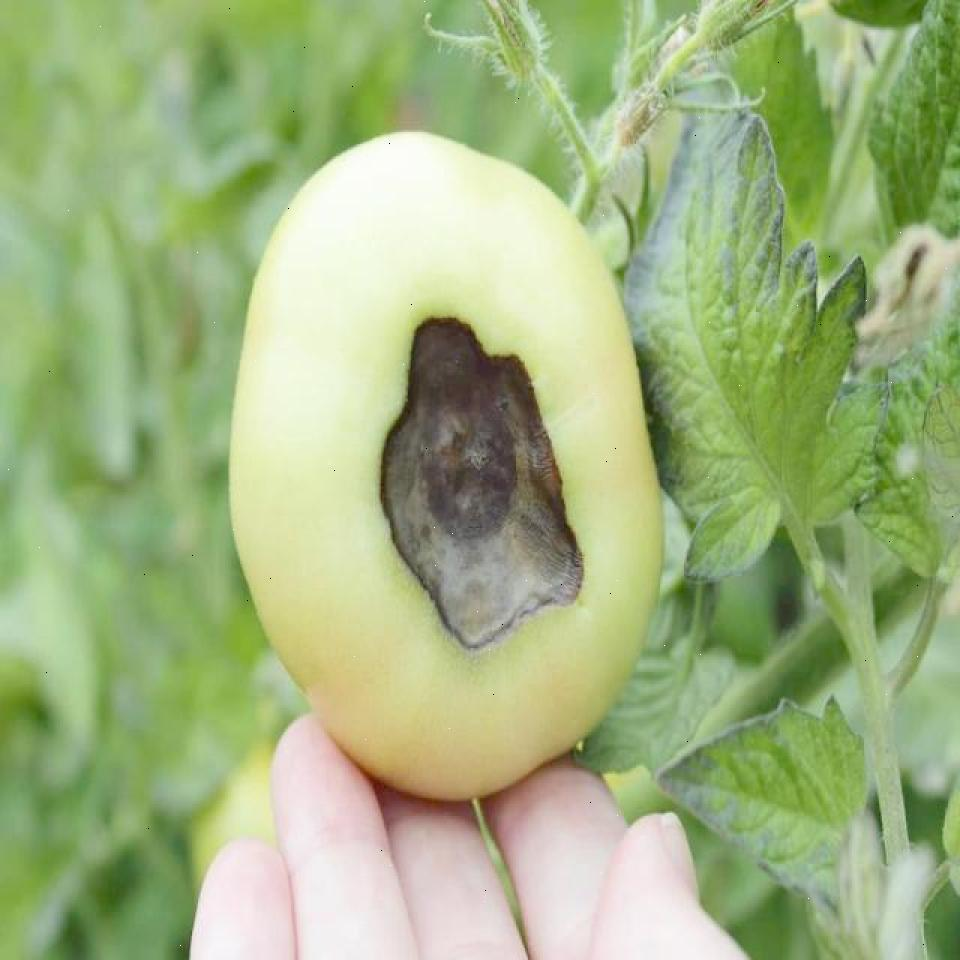Blossom_end_rot: (374, 308, 588, 658)
